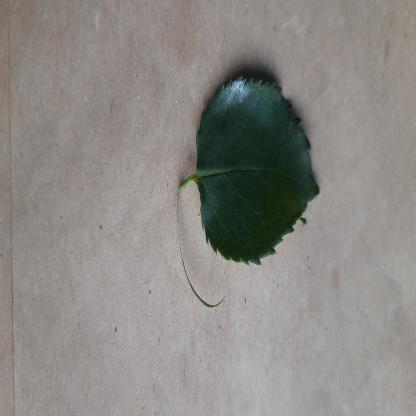powdery-mildew: (196, 64, 320, 264)
